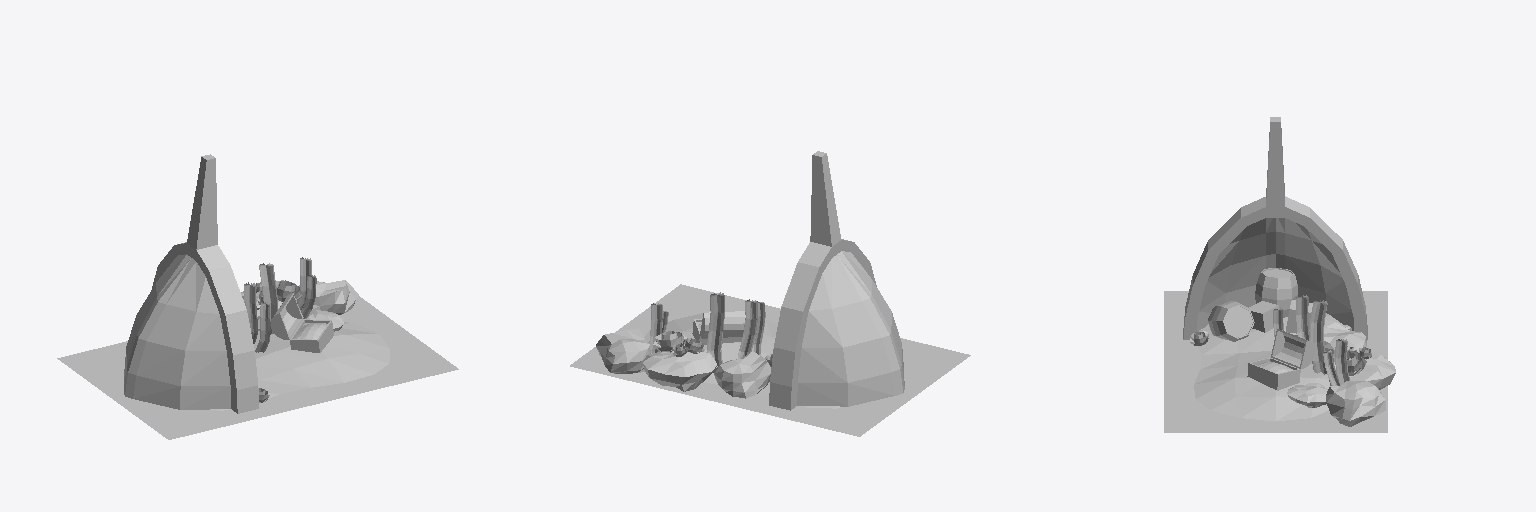
Rendered from ship.obj.
3 views of the same model, side by side, from view 1: azimuth 30°, elevation 25°; view 2: azimuth 150°, elevation 25°; view 3: azimuth 270°, elevation 25° (orthographic).
Visible parts, largest first — view 1: Mesh_1, Mesh_0, Mesh_2; view 2: Mesh_1, Mesh_0, Mesh_2; view 3: Mesh_1, Mesh_0, Mesh_2.
Boxes of the visible parts, box(x1,y1,x2,y2) form: Mesh_1: box(124, 154, 333, 413); Mesh_0: box(57, 295, 458, 439); Mesh_2: box(241, 257, 358, 402); Mesh_1: box(692, 151, 904, 410); Mesh_0: box(570, 284, 970, 436); Mesh_2: box(596, 292, 772, 398); Mesh_1: box(1183, 117, 1367, 390); Mesh_0: box(1164, 291, 1387, 432); Mesh_2: box(1190, 268, 1395, 426).
Size of the model in its own units: 457 by 338 by 317.